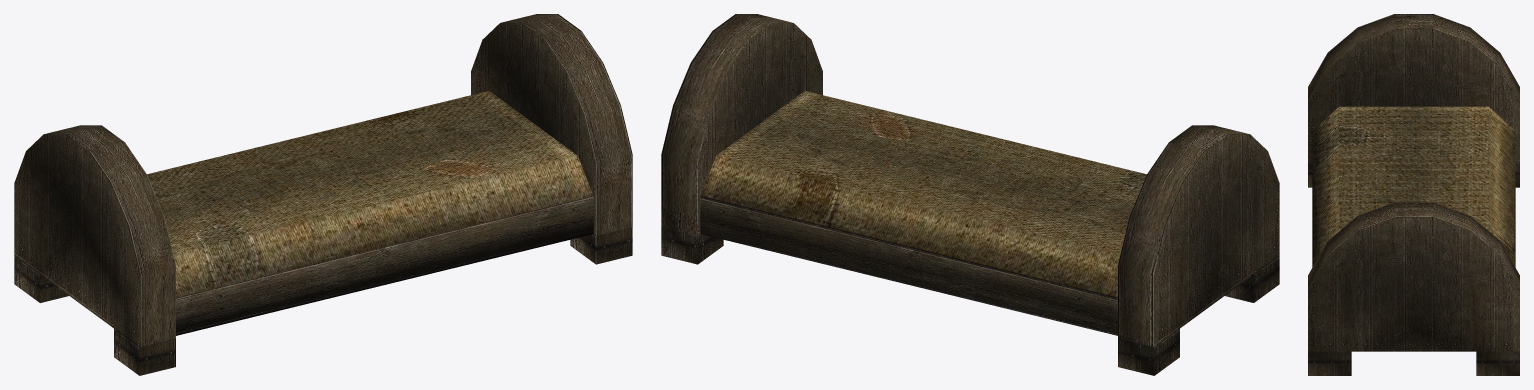
The model's file is ITHC_BED_POOR.glb.
3 renders of one model, left to right at view 1: azimuth 30°, elevation 25°; view 2: azimuth 150°, elevation 25°; view 3: azimuth 270°, elevation 25°, orthographic. The views are drawn at different scales.
Visible parts, largest first — view 1: Mesh; view 2: Mesh; view 3: Mesh.
Boxes of the visible parts, x1,y1,x2,y2 form: Mesh: (14, 14, 632, 375); Mesh: (661, 14, 1279, 375); Mesh: (1308, 14, 1519, 375).
Size of the model in its own units: 2.7 by 0.9808 by 1.19.
Materials: 2 (2 with a texture image).
